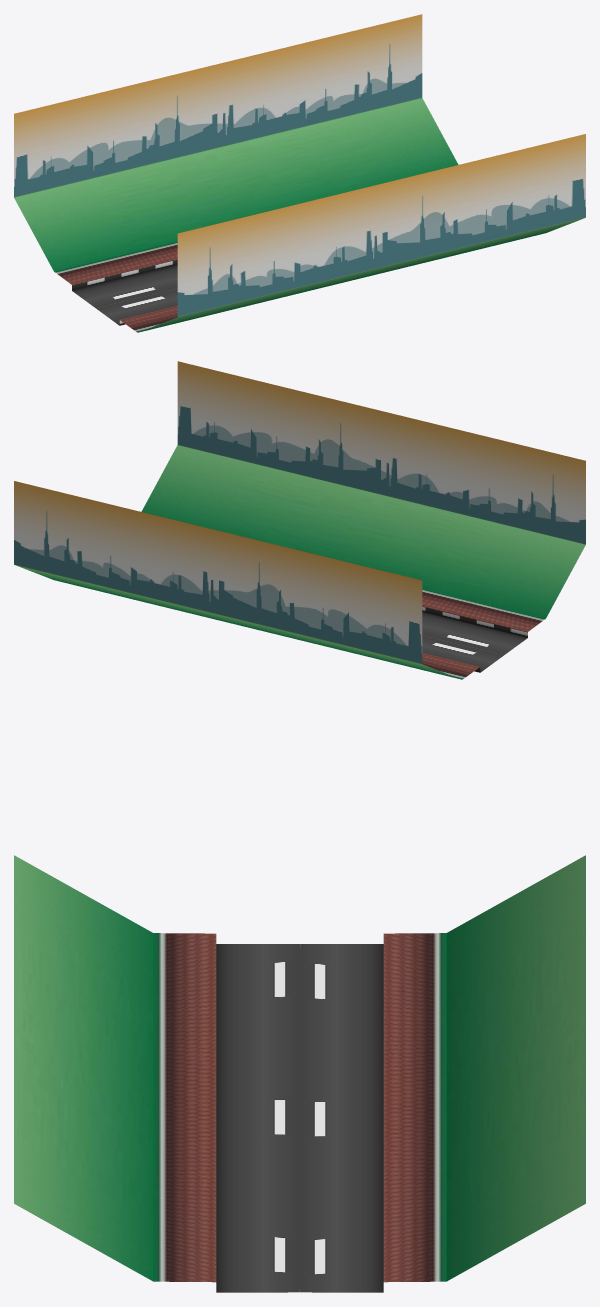
File: road.fbx
3 views of the same model, one above another, from view 1: azimuth 30°, elevation 25°; view 2: azimuth 150°, elevation 25°; view 3: azimuth 270°, elevation 25° (orthographic). The views are drawn at different scales.
Parts seen in each view (by area): view 1: Straight; view 2: Straight; view 3: Straight.
Part boxes in pixels (x1=…): Straight: x1=14, y1=14, x2=585, y2=332; Straight: x1=14, y1=361, x2=585, y2=679; Straight: x1=14, y1=855, x2=585, y2=1292.
Size of the model in its own units: 1844 by 581 by 1278.
